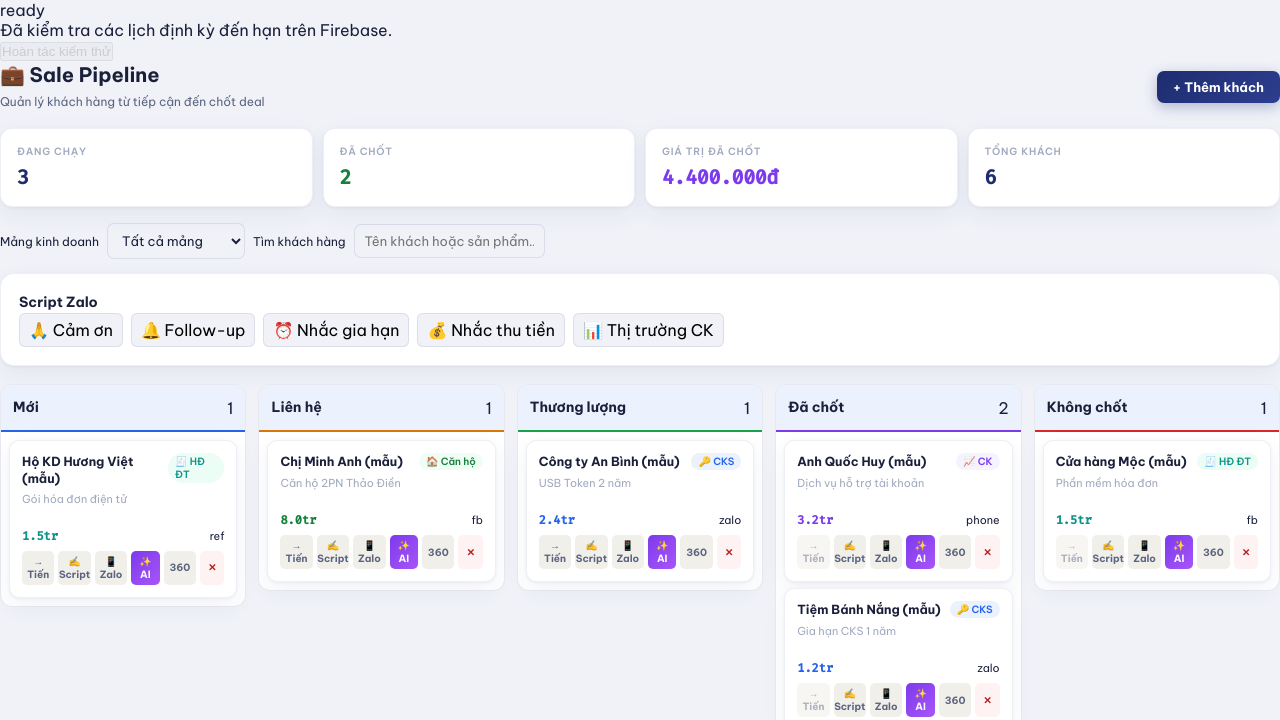
Test: editable screens › closes an editor with Escape and restores keyboard focus
Expected: the text with test id "ready" reads "ready", [0,0,45,20]
Click the button "+ Thêm khách".
click(1218, 87)  # box [1157,71,1279,103]
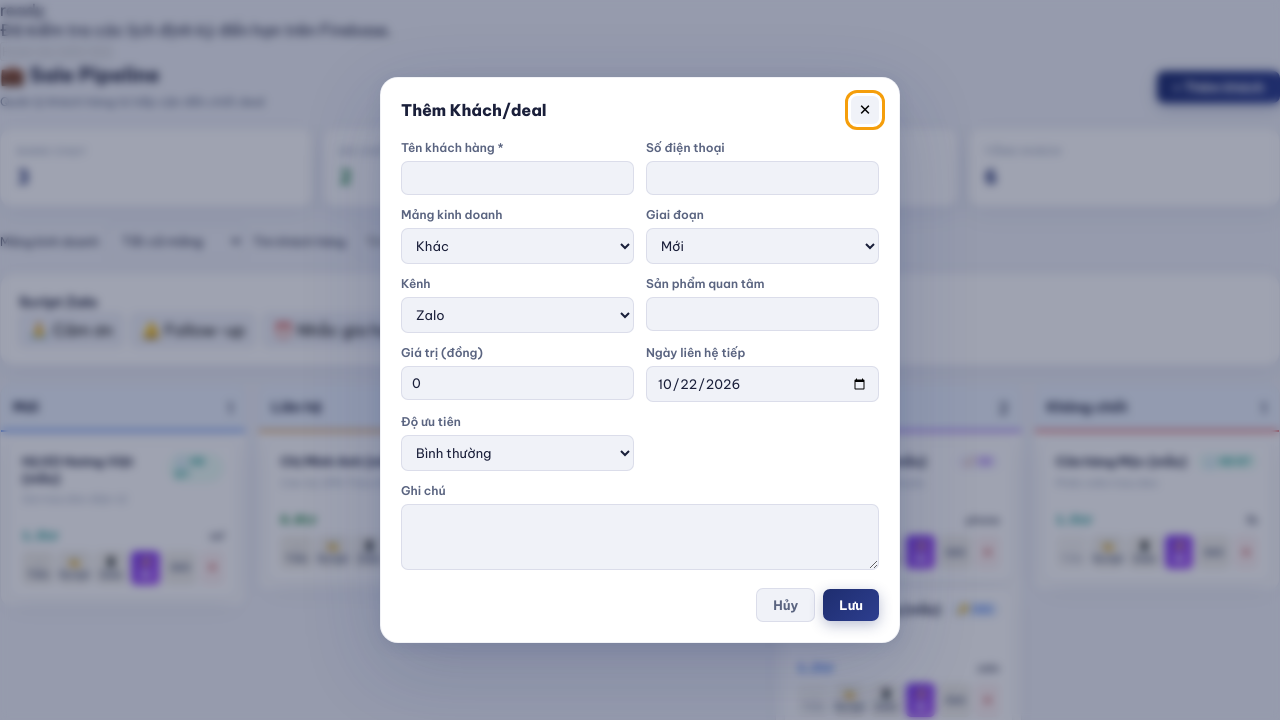
Expected: the dialog is shown, [380,77,900,643]
Press Escape
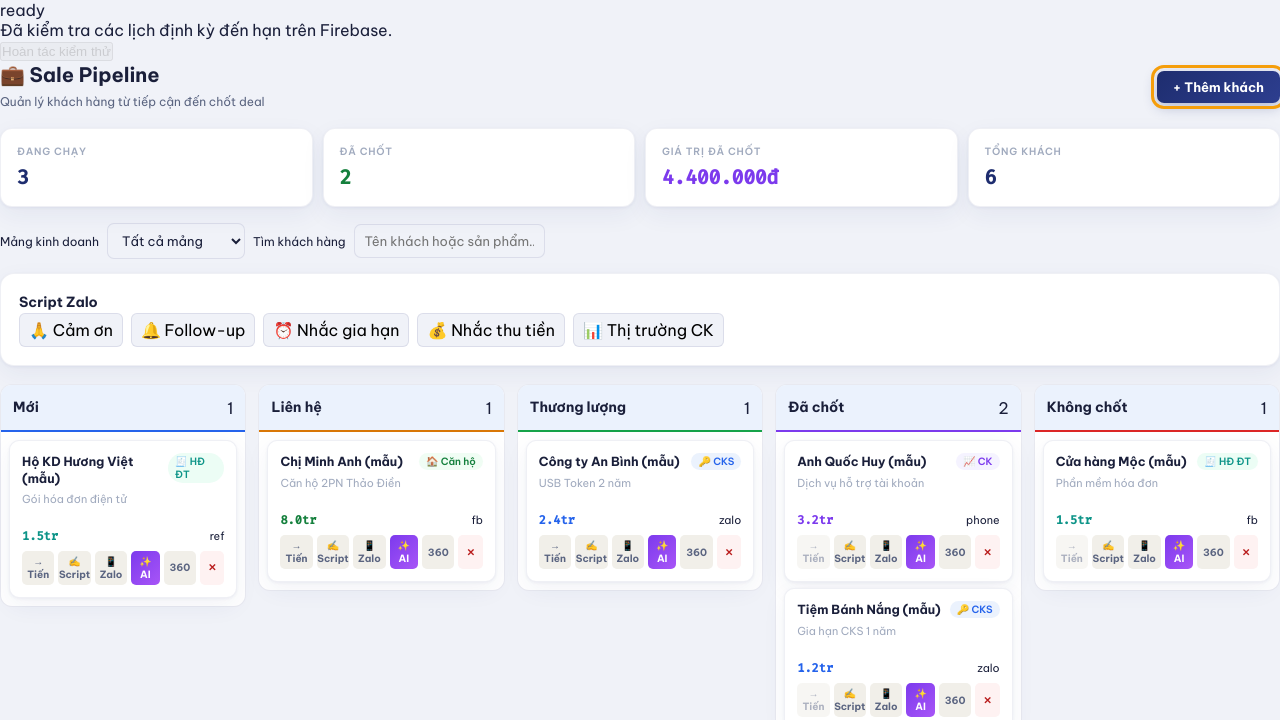
Expected: the dialog is gone
